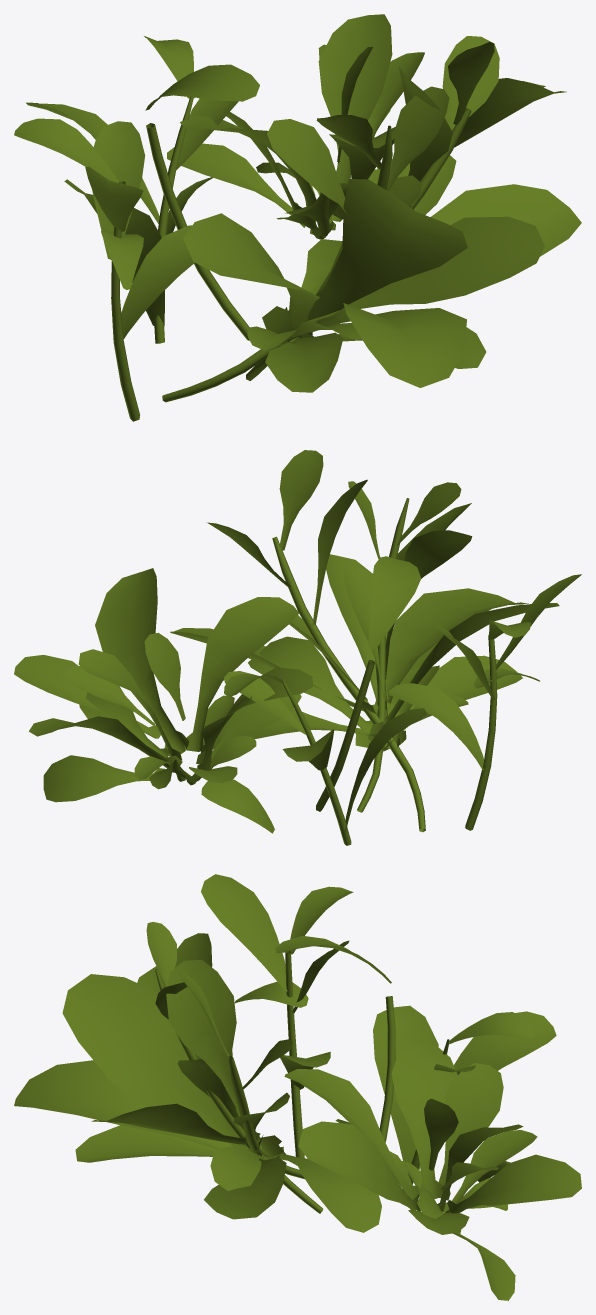
File: AE_15TH_GROUND_PLANT_02.fbx
The picture shows the model from 3 angles, top to bottom: view 1: azimuth 30°, elevation 25°; view 2: azimuth 150°, elevation 25°; view 3: azimuth 270°, elevation 25°; orthographic projection. The views are drawn at different scales.
Visible parts, largest first — view 1: AE_15TH_GROUND_PLANT_02; view 2: AE_15TH_GROUND_PLANT_02; view 3: AE_15TH_GROUND_PLANT_02.
Part boxes in pixels (left/top/right/bottom): AE_15TH_GROUND_PLANT_02: left=14, top=14, right=581, bottom=421; AE_15TH_GROUND_PLANT_02: left=14, top=450, right=581, bottom=845; AE_15TH_GROUND_PLANT_02: left=14, top=874, right=581, bottom=1300.
Size of the model in its own units: 12.23 by 7.29 by 12.53.
